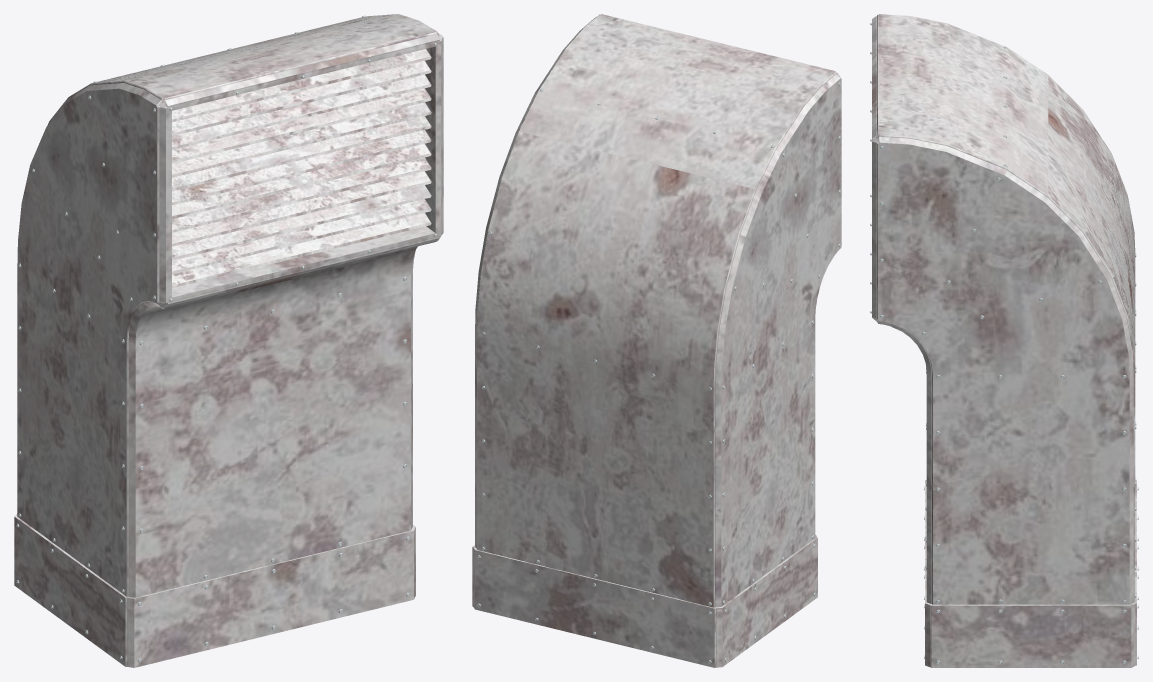
File: roof_top_vent.glb
The picture shows the model from 3 angles, left to right: view 1: azimuth 30°, elevation 25°; view 2: azimuth 150°, elevation 25°; view 3: azimuth 270°, elevation 25°; orthographic projection. The views are drawn at different scales.
Parts seen in each view (by area): view 1: ROOFTOP EXHAUST VENT_4; view 2: ROOFTOP EXHAUST VENT_4; view 3: ROOFTOP EXHAUST VENT_4.
Part boxes in pixels (<box>): ROOFTOP EXHAUST VENT_4: <box>14,14,443,667</box>; ROOFTOP EXHAUST VENT_4: <box>472,14,841,667</box>; ROOFTOP EXHAUST VENT_4: <box>870,14,1138,667</box>.
Bounding box in the file's own units: 0.8147 × 1.57 × 0.7181.
Materials: 3 (1 with a texture image).
